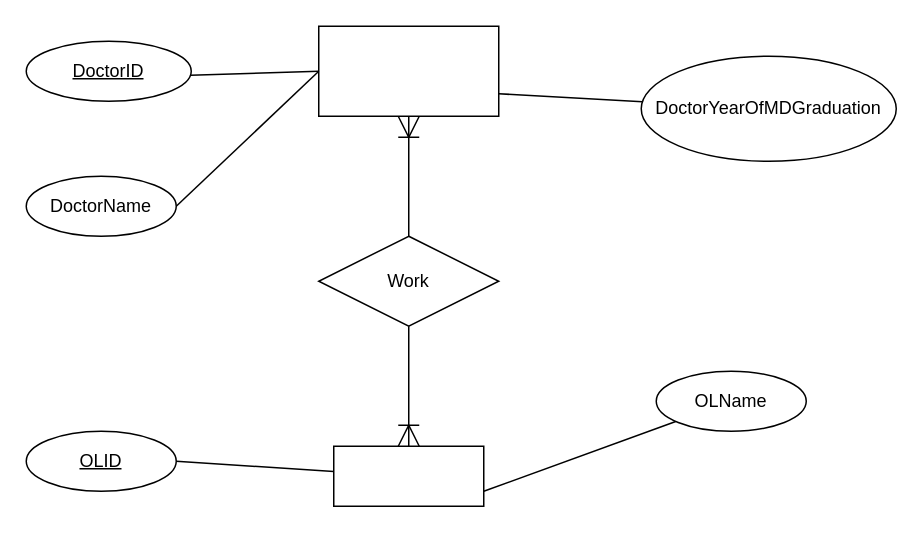
Image size: 923x533. Some labels were removed from this diagram. The shapes that lost their labels are listed below. From the top down, each one's centre as x and y in pixels, then its label:
At point 408,70: "Doctors".
At point 408,475: "Outpatient Location".
